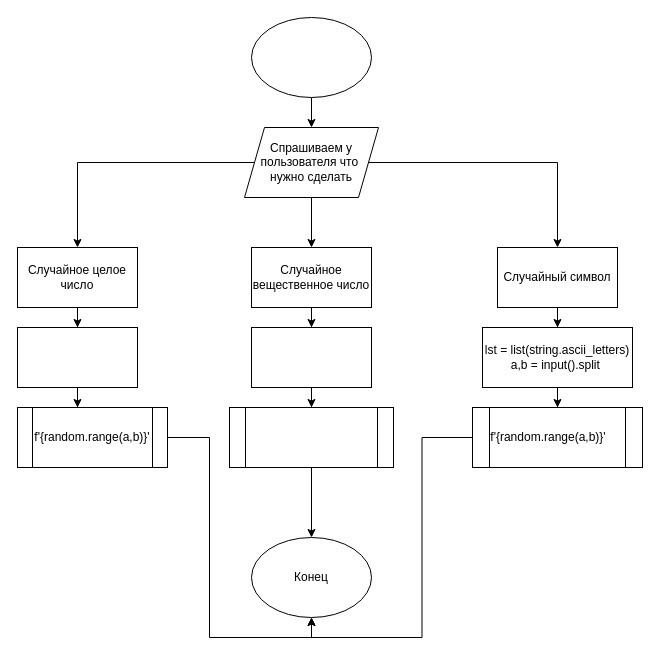
Some shapes in this 660 by 663 pixel diagram are drawn without their labels. Each missing label, with the box of its shape:
a,b = input().split a, b = map(int([a,b]): (16, 326, 138, 388)
a,b = input().split a,b = map(float, [a,b]): (250, 326, 372, 388)
f'{random.uniform(a,b)}': (228, 406, 394, 468)
НАЧАЛО: (250, 16, 372, 98)
